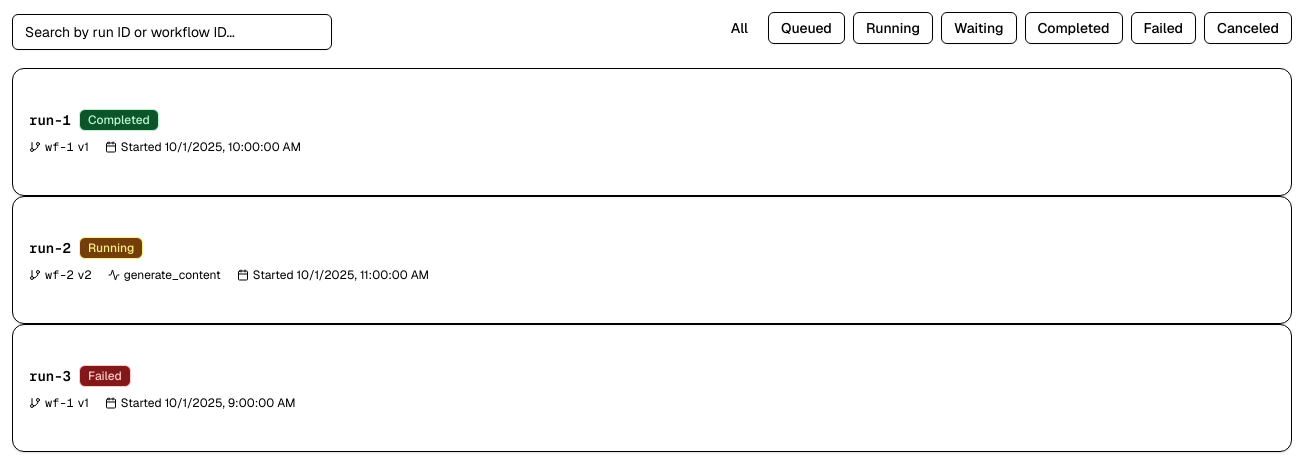
Test case: RunList › filters runs by search term
Type "run-1" into the field with placeholder "Search by run ID or workflow ID..." at coordinates (172, 32), box x1=12 y1=14 x2=332 y2=50
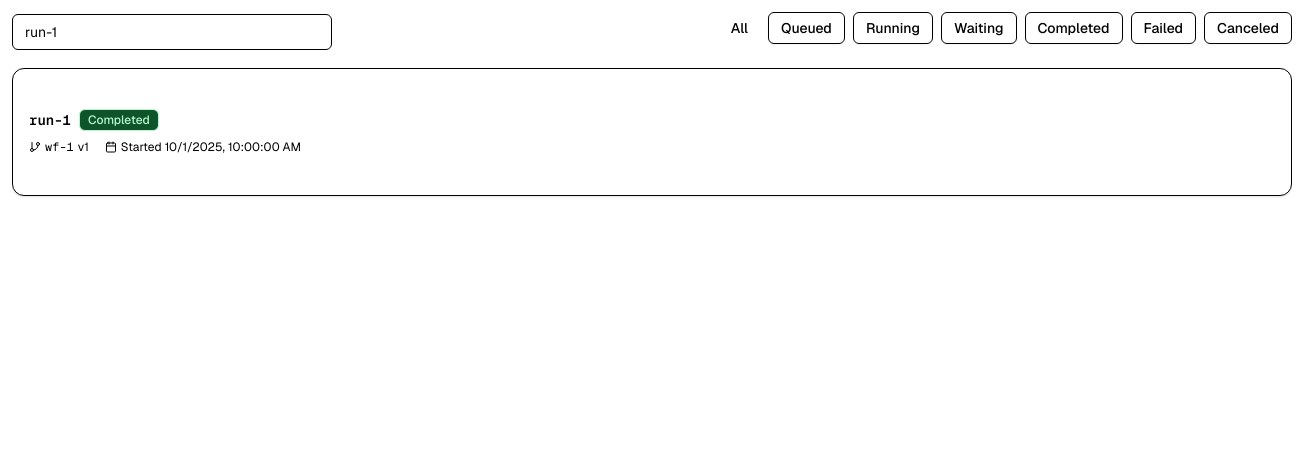
Expected: the heading "run-1" is shown, x1=29 y1=110 x2=71 y2=130
Now the link "run-2" is gone
Now the link "run-3" is gone
